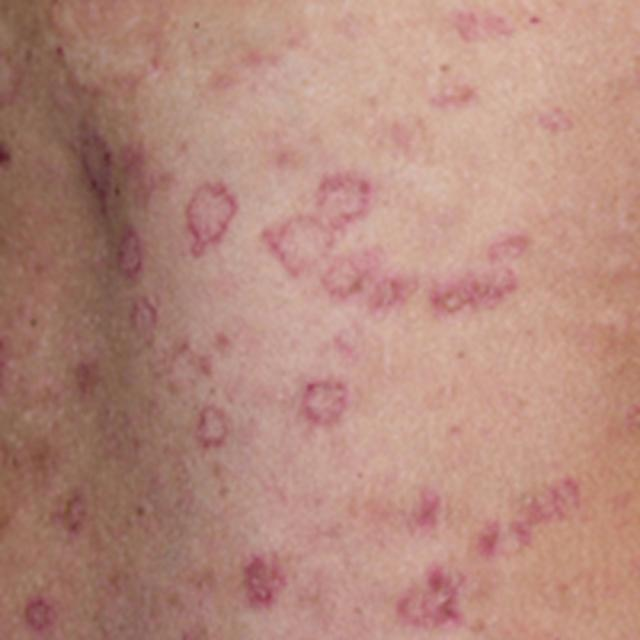Rosacea: (21, 88, 569, 628)
